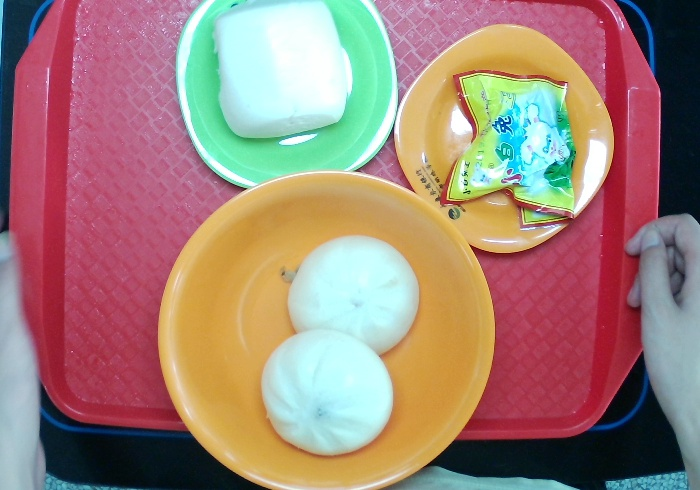YKMZ-Ju_Se_Fang_Die: (392, 20, 616, 256)
YKMZ-Ju_Se_Tang_Wan: (155, 168, 499, 490)
YKMZ-Lv_Se_Fang_Die: (172, 1, 401, 189)
